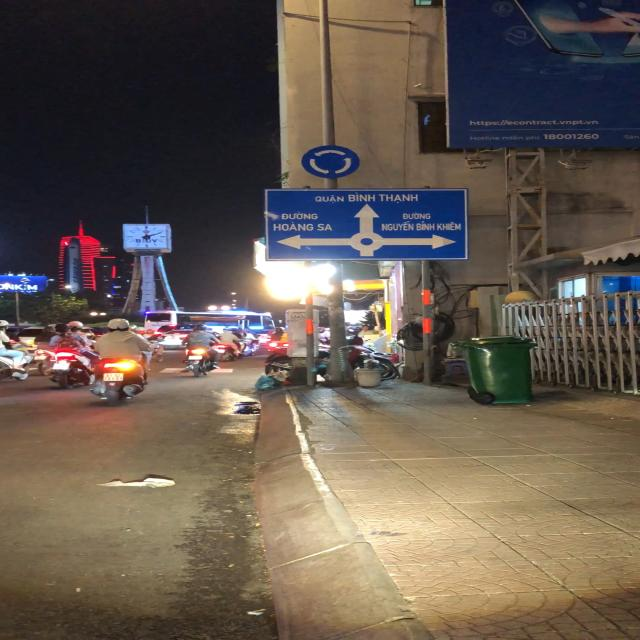Bien bao noi giao nhau chay theo vong xuyen: (301, 143, 361, 180)
